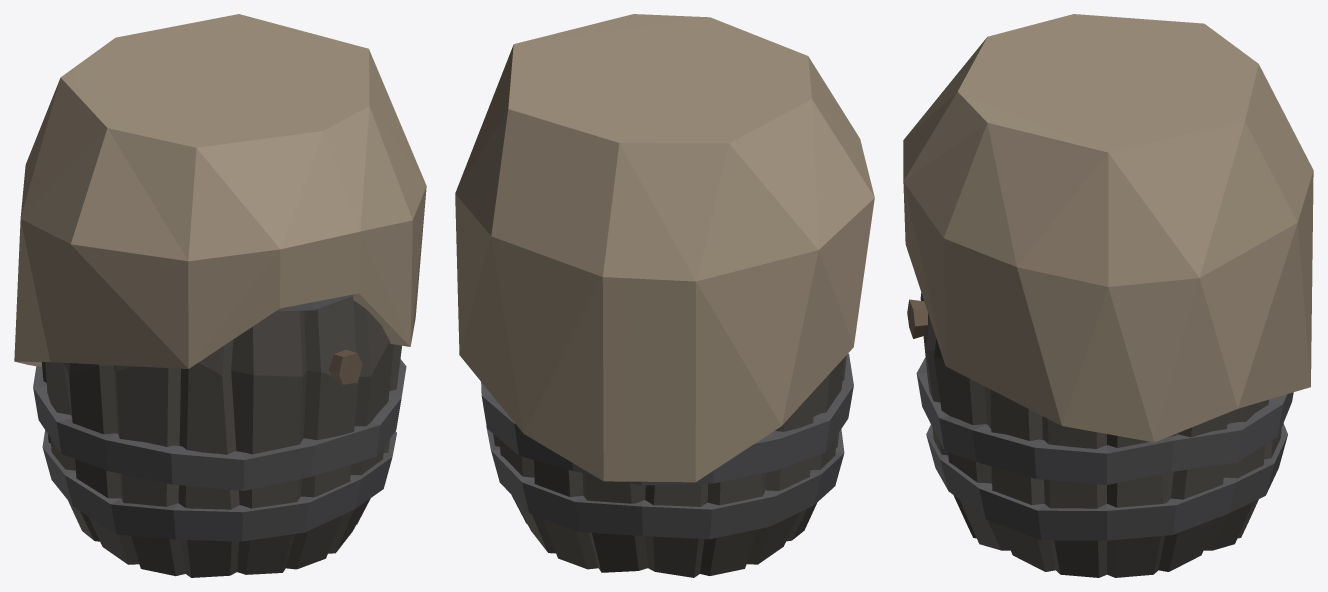
The model's file is SM_Prop_Barrel_05.glb.
3 renders of one model, left to right at view 1: azimuth 30°, elevation 25°; view 2: azimuth 150°, elevation 25°; view 3: azimuth 270°, elevation 25°, orthographic.
Visible parts, largest first — view 1: SM_Prop_Barrel_05; view 2: SM_Prop_Barrel_05; view 3: SM_Prop_Barrel_05.
Part boxes in pixels (<box>): SM_Prop_Barrel_05: <box>14,14,426,577</box>; SM_Prop_Barrel_05: <box>455,14,874,577</box>; SM_Prop_Barrel_05: <box>903,14,1313,577</box>.
Size of the model in its own units: 0.00943 by 0.011 by 0.00924.
